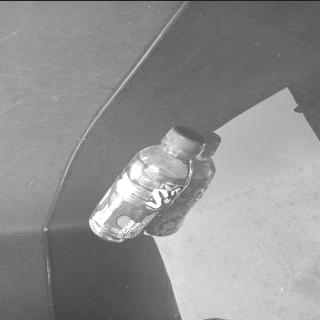bottle: (86, 124, 205, 243)
